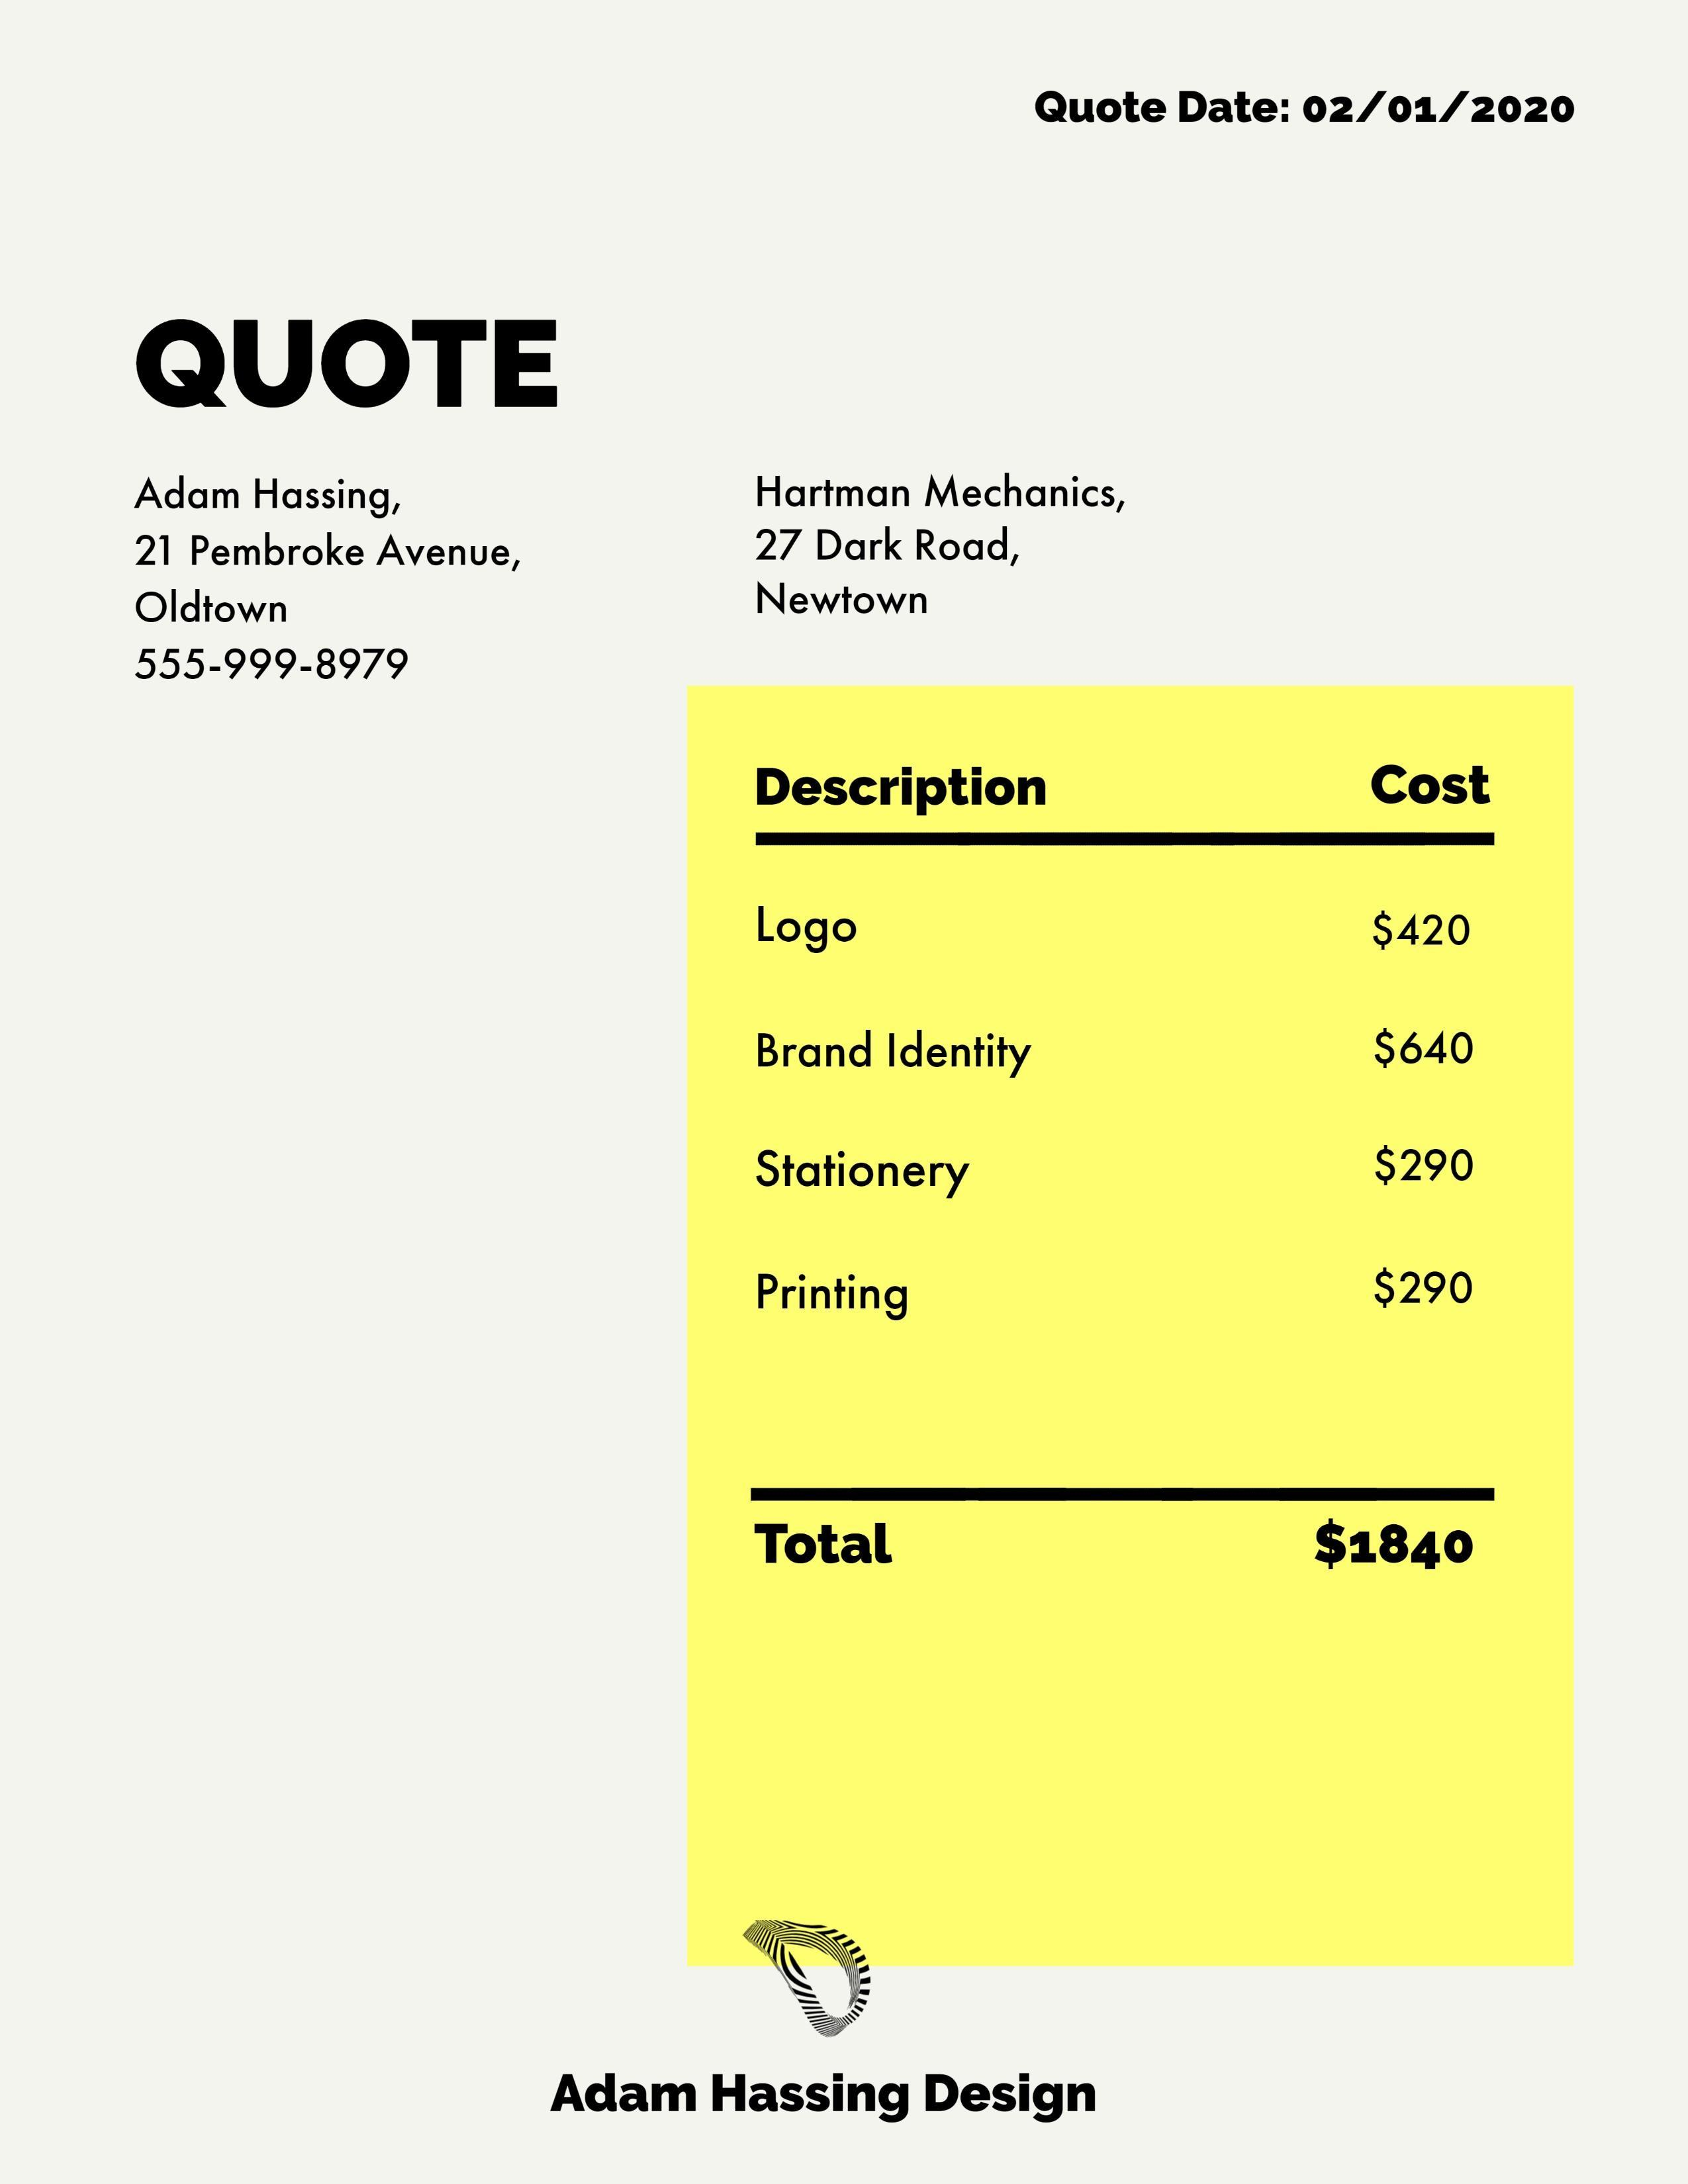ROI: (738, 736, 1514, 1377), (124, 461, 541, 721), (706, 450, 1184, 628), (741, 1509, 1498, 1583), (996, 73, 1617, 151)
